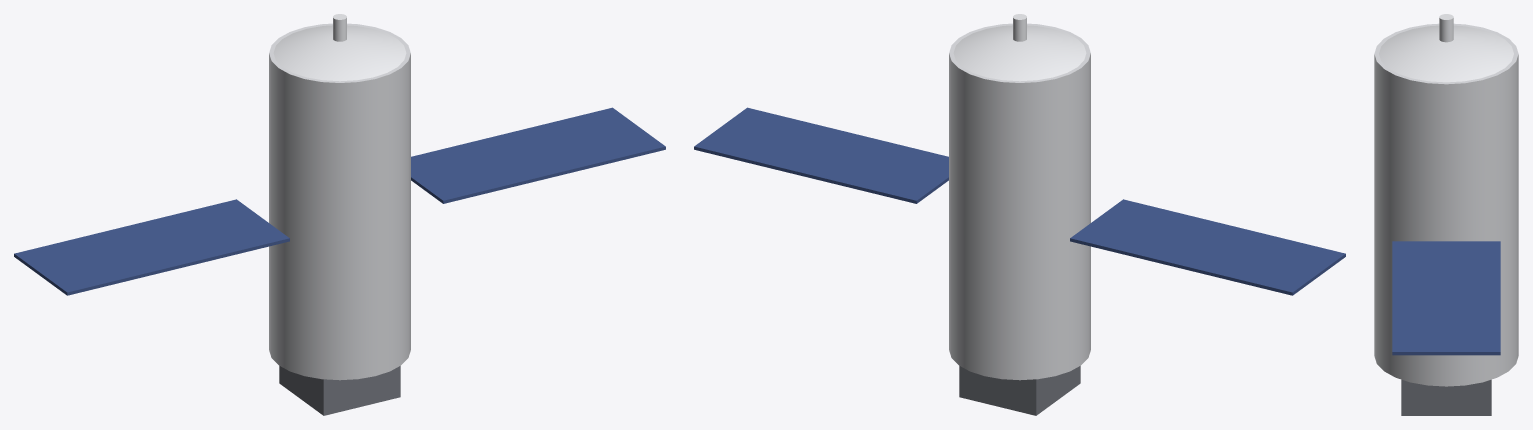
File: glonass.glb
3 views of the same model, side by side, from view 1: azimuth 30°, elevation 25°; view 2: azimuth 150°, elevation 25°; view 3: azimuth 270°, elevation 25° (orthographic).
Parts seen in each view (by area): view 1: body, solar, antenna, bay; view 2: body, solar, antenna, bay; view 3: body, solar, antenna, bay.
Part boxes in pixels (x1,y1,x2,y2): body: (269, 23, 410, 380); solar: (14, 107, 665, 295); antenna: (273, 14, 406, 81); bay: (279, 366, 400, 415); body: (949, 23, 1090, 380); solar: (694, 107, 1345, 295); antenna: (953, 14, 1086, 81); bay: (959, 366, 1080, 415); body: (1374, 23, 1518, 386); solar: (1392, 241, 1500, 355); antenna: (1379, 14, 1513, 82); bay: (1401, 379, 1491, 415).
Size of the model in its own units: 7.8 by 4.65 by 1.6.
